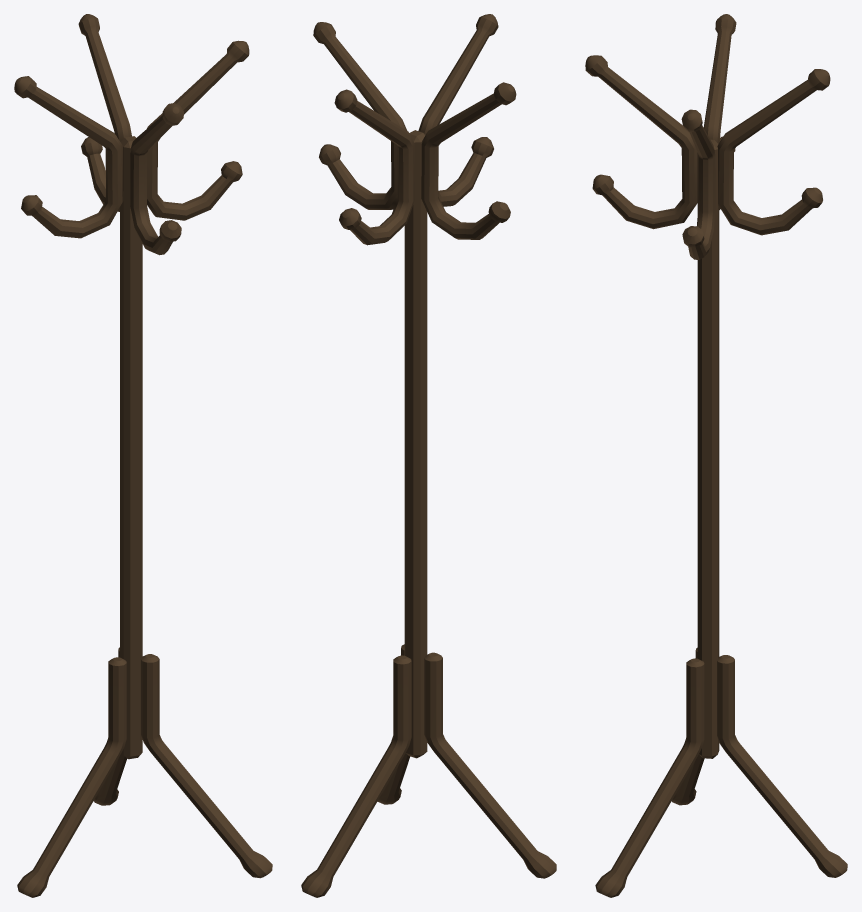
The model's file is Clothes_Hanger_No_Clothes.fbx.
The picture shows the model from 3 angles, left to right: view 1: azimuth 30°, elevation 25°; view 2: azimuth 150°, elevation 25°; view 3: azimuth 270°, elevation 25°; orthographic projection.
Visible parts, largest first — view 1: clothes_hanger_no_clothes; view 2: clothes_hanger_no_clothes; view 3: clothes_hanger_no_clothes.
Part boxes in pixels (bbox=[...]): clothes_hanger_no_clothes: bbox=[14, 14, 272, 897]; clothes_hanger_no_clothes: bbox=[301, 14, 556, 897]; clothes_hanger_no_clothes: bbox=[585, 14, 847, 897].
Size of the model in its own units: 0.573 by 1.87 by 0.5603.
